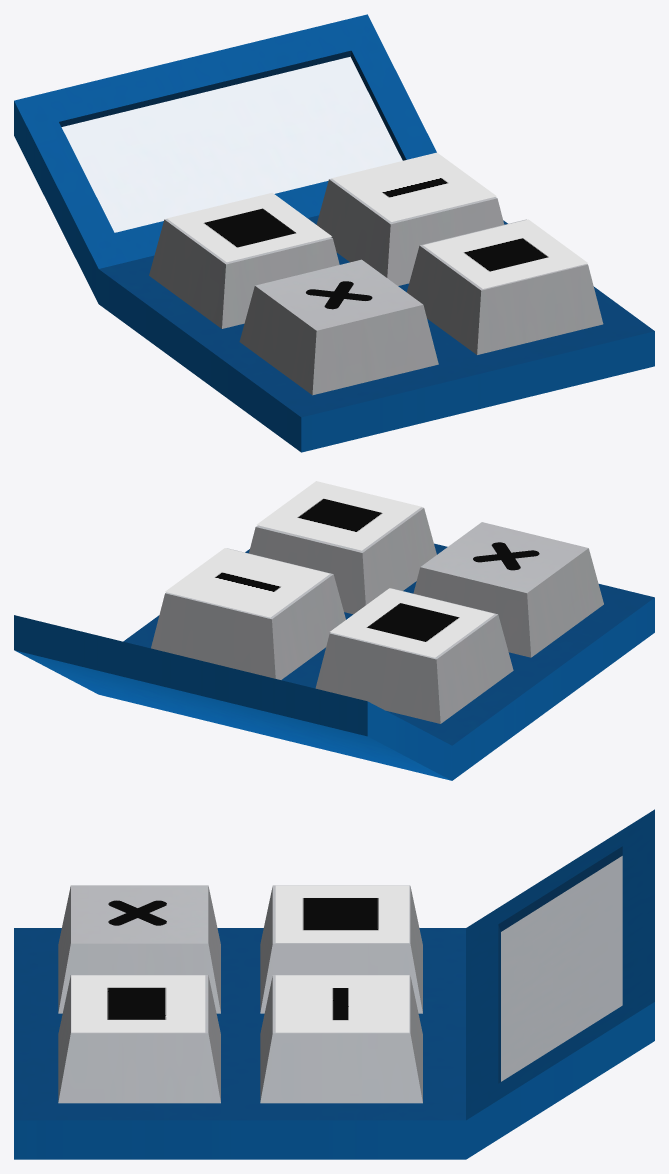
File: SM_Calculator.fbx
3 views of the same model, one above another, from view 1: azimuth 30°, elevation 25°; view 2: azimuth 150°, elevation 25°; view 3: azimuth 270°, elevation 25° (orthographic). The views are drawn at different scales.
Parts seen in each view (by area): view 1: SM_Calculator; view 2: SM_Calculator; view 3: SM_Calculator.
Boxes of the visible parts, x1,y1,x2,y2 form: SM_Calculator: (14, 14, 654, 452); SM_Calculator: (14, 481, 654, 780); SM_Calculator: (14, 809, 654, 1159).
Size of the model in its own units: 23.25 by 8.9 by 32.73.
